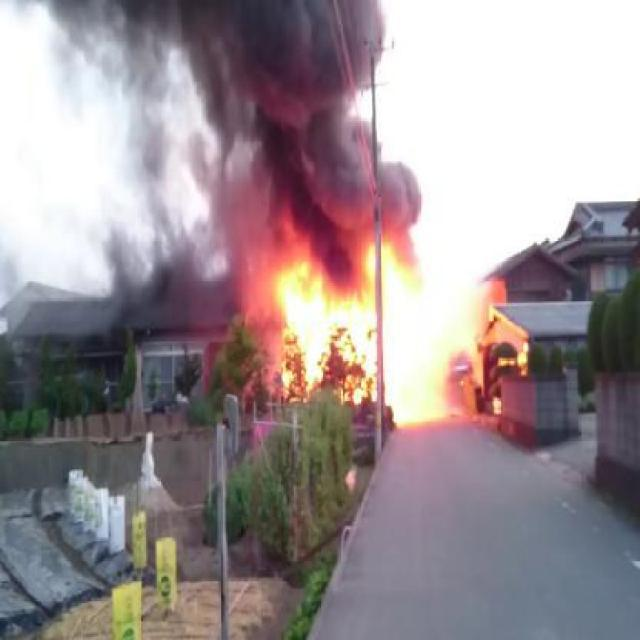Fire: (271, 235, 499, 431)
Smoke: (178, 0, 384, 125), (205, 132, 418, 248), (50, 0, 177, 58), (152, 231, 208, 294), (104, 238, 144, 306)
